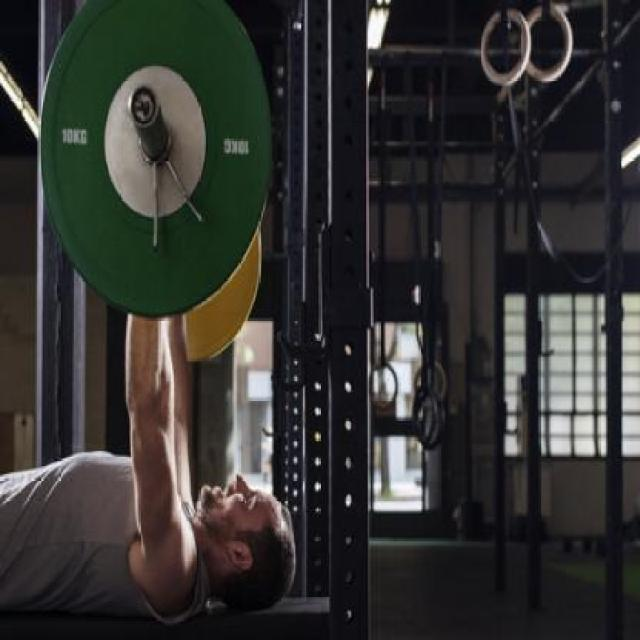barbell: (37, 1, 280, 324)
